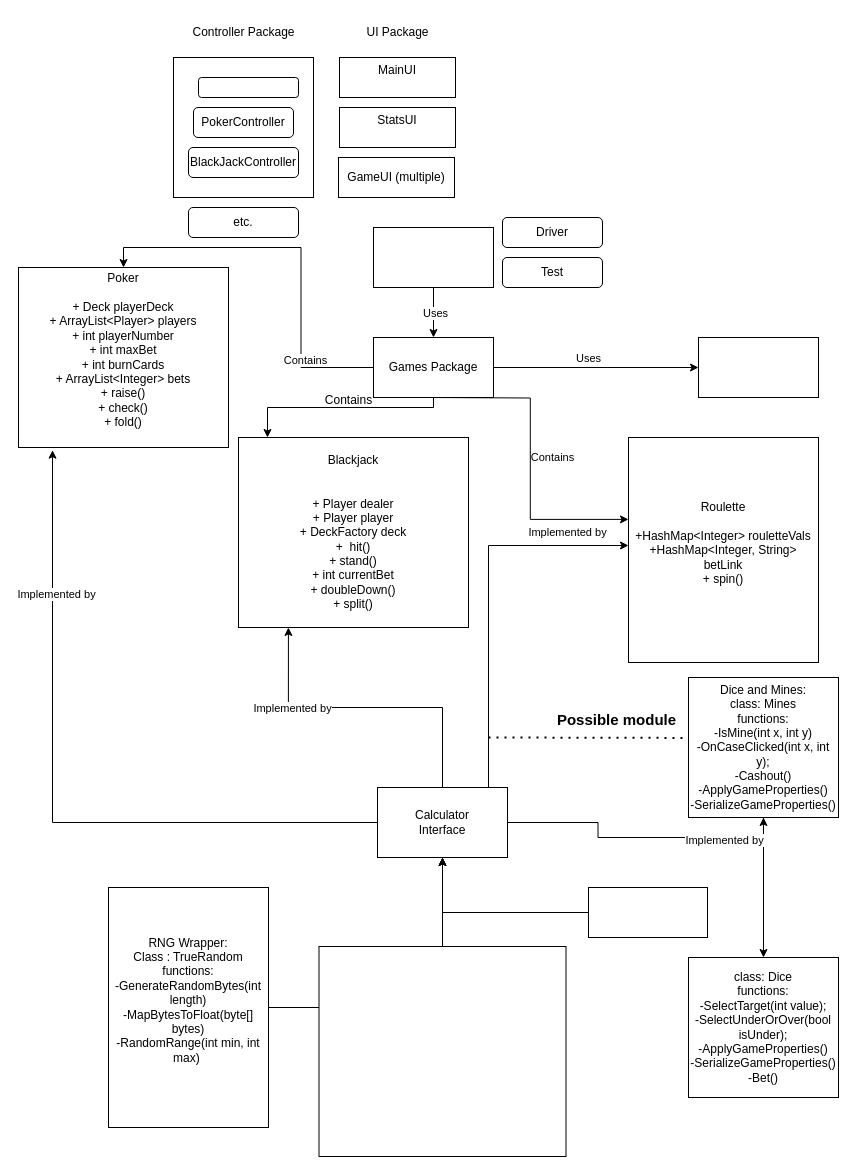
This 856x1174 diagram has some shape labels left out. Here are the shapes that lost their labels. From the top down, the centre of each, then its label:
At (248,87): "RouletteController".
At (433,257): "Driver/Test Package".
At (758,367): "JCards Library".
At (648,912): "Statistics functionality".
At (442,1051): "Advantage calculator: +Double getHouseAdvantage()".
